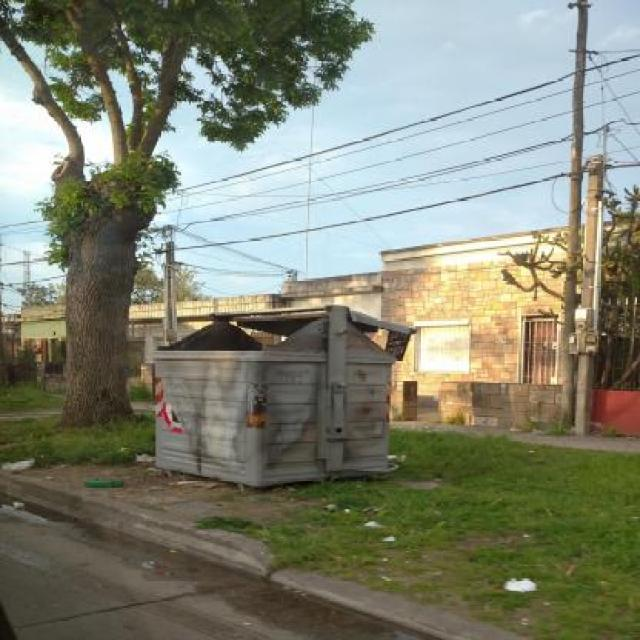garbage: (2, 443, 228, 500), (434, 569, 557, 602)
